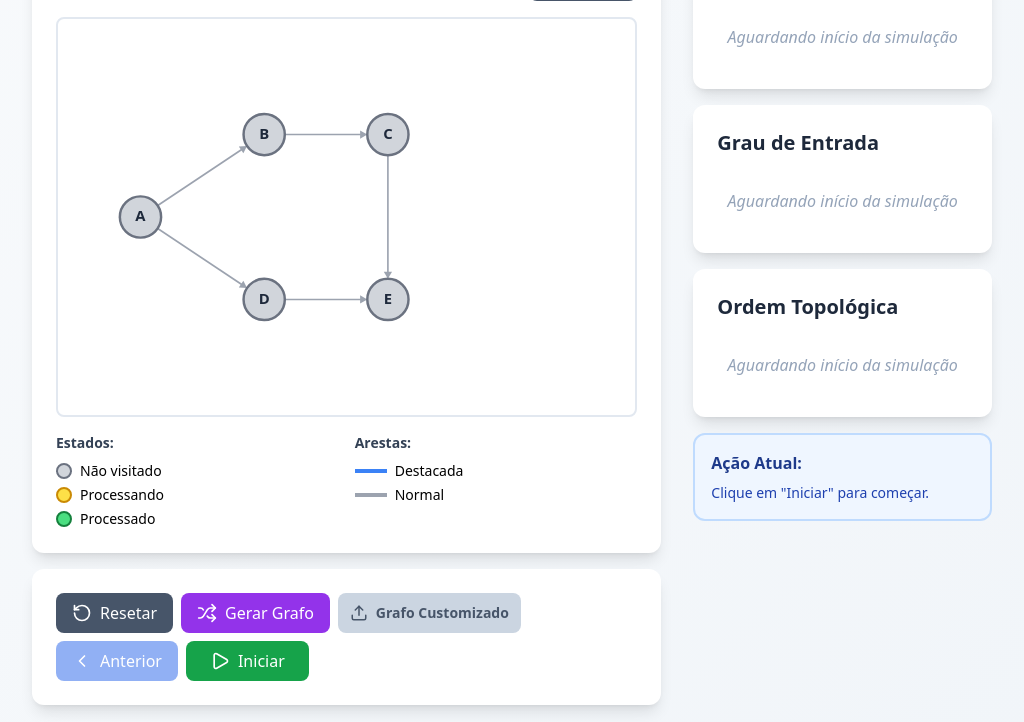
Scenario: TopologicalSortSimulator Integration › should disable data structure buttons during simulation
(page scrolled)
Click the button with test id "start-button". click: (247, 661)
box: x1=186 y1=641 x2=309 y2=681
(page scrolled)
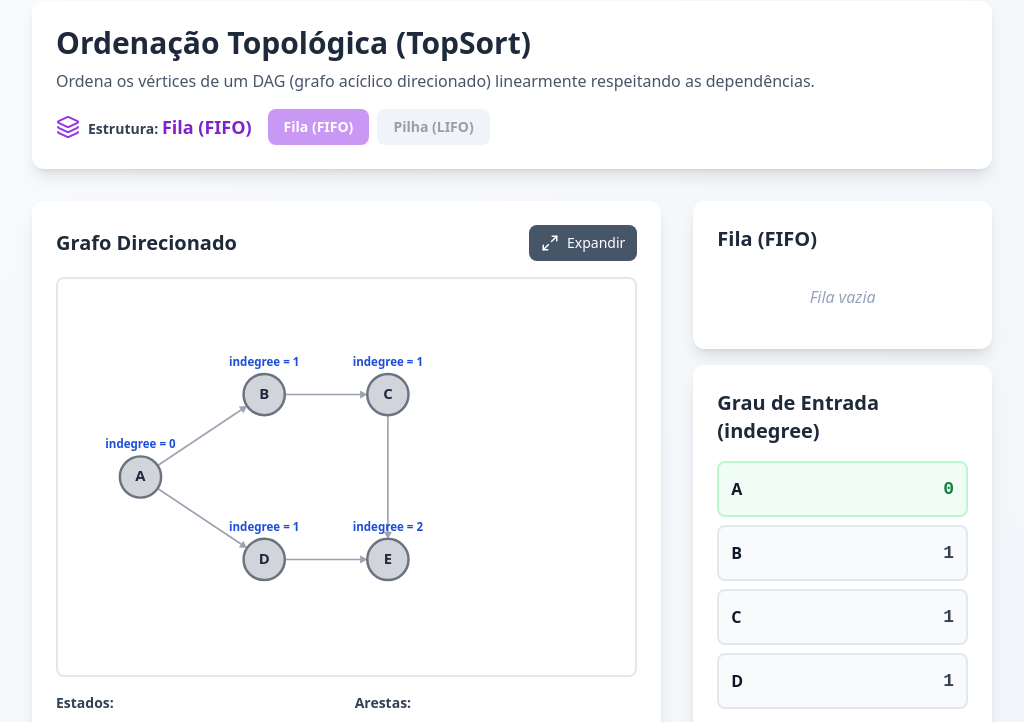
Check: the button with test id "queue-button" is disabled, box x1=268 y1=109 x2=369 y2=145
Check: the button with test id "stack-button" is disabled, box x1=377 y1=109 x2=490 y2=145
